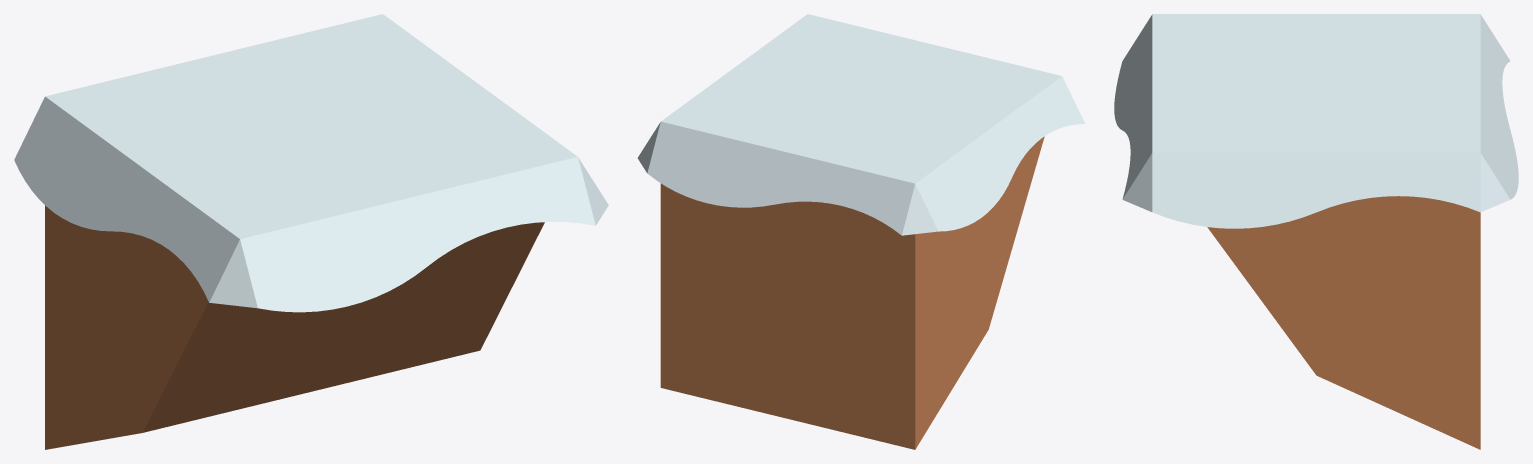
The model's file is blockSnowCliff.dae.
3 views of the same model, side by side, from view 1: azimuth 30°, elevation 25°; view 2: azimuth 150°, elevation 25°; view 3: azimuth 270°, elevation 25° (orthographic). The views are drawn at different scales.
Visible parts, largest first — view 1: blockSnowCliff; view 2: blockSnowCliff; view 3: blockSnowCliff.
Boxes of the visible parts, box(x1,y1,x2,y2) form: blockSnowCliff: box(14, 14, 608, 449); blockSnowCliff: box(637, 14, 1085, 449); blockSnowCliff: box(1114, 14, 1518, 449).
Bounding box in the file's own units: 1.23 × 1 × 1.23.
